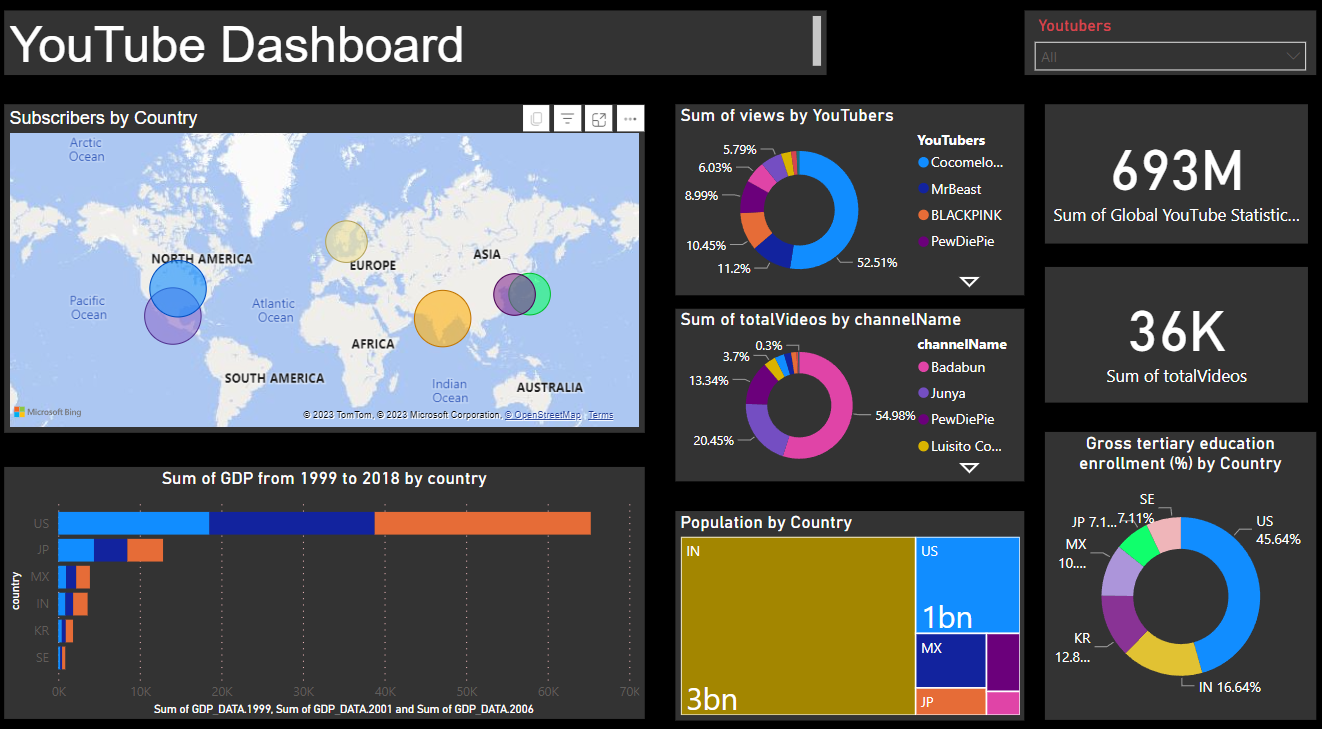

This screenshot's page, from the dashboard's own definition file:
{"tool":"powerbi","page":{"name":"Page 2","canvas":[1280,720],"ordinal":1},"visuals":[{"type":"textbox","box":[10,11.7,788.3,61.7],"z":0},{"type":"slicer","fields":{"Values":["MAIN_KEY.channelName"]},"box":[988.3,11.7,280,61.7],"z":1000},{"type":"map","fields":{"Category":["MAIN_KEY.country"],"Size":["MAIN_KEY.subscribers"]},"box":[9.4,101.4,614.4,314.9],"z":2000},{"type":"donutChart","fields":{"Category":["MAIN_KEY.channelName"],"Y":["MAIN_KEY.views"]},"box":[653.3,101.4,334.9,182.8],"z":3000},{"type":"donutChart","fields":{"Category":["MAIN_KEY.channelName"],"Y":["MAIN_KEY.totalVideos"]},"box":[653.3,298.4,334.9,165.1],"z":4000},{"type":"card","fields":{"Values":["MAIN_KEY.Global YouTube Statistics.subscribers"]},"box":[1008,102,252,134],"z":5000},{"type":"card","fields":{"Values":["MAIN_KEY.totalVideos"]},"box":[1008,258,252,130],"z":6000},{"type":"donutChart","title":"Gross tertiary education enrollment (%) by Country","fields":{"Category":["MAIN_KEY.country"],"Y":["YES.Global YouTube Statistics.Unemployment rate"]},"box":[1008,416,260,276],"z":7000},{"type":"barChart","title":"Sum of GDP from 1999 to 2018 by country","fields":{"Category":["MAIN_KEY.country"],"Y":["MAIN_KEY.GDP_DATA.1999","MAIN_KEY.GDP_DATA.2001","MAIN_KEY.GDP_DATA.2006"]},"box":[10,450,614,242],"z":8000},{"type":"treemap","title":"Population by Country","fields":{"Group":["MAIN_KEY.country"],"Values":["YES.Population"]},"box":[653.3,491.8,334.9,200.5],"z":9000}]}

Visuals, with their boxes in screenshot pixels (x1, y1, x2, y2), scaled from the page's 1280x720 canvas onto the 1322x729 screenshot:
textbox: rect(10, 12, 824, 74)
slicer - MAIN_KEY.channelName: rect(1021, 12, 1310, 74)
map - MAIN_KEY.country x MAIN_KEY.subscribers: rect(10, 103, 644, 422)
donutChart - MAIN_KEY.channelName x MAIN_KEY.views: rect(675, 103, 1021, 288)
donutChart - MAIN_KEY.channelName x MAIN_KEY.totalVideos: rect(675, 302, 1021, 469)
card - MAIN_KEY.Global YouTube Statistics.subscribers: rect(1041, 103, 1301, 239)
card - MAIN_KEY.totalVideos: rect(1041, 261, 1301, 393)
"Gross tertiary education enrollment (%) by Country" donutChart: rect(1041, 421, 1310, 701)
"Sum of GDP from 1999 to 2018 by country" barChart: rect(10, 456, 644, 701)
"Population by Country" treemap: rect(675, 498, 1021, 701)
